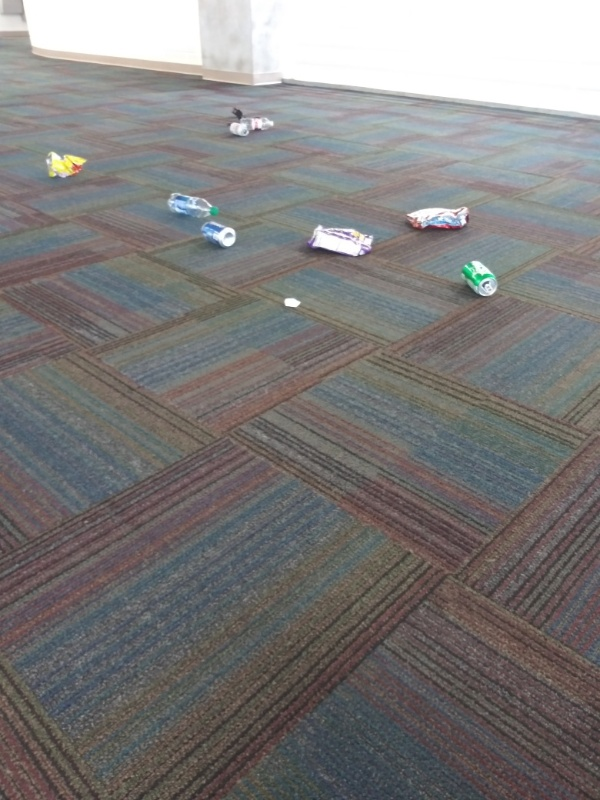bag: (300, 220, 378, 260), (399, 203, 477, 235), (38, 146, 91, 182)
bottle: (162, 188, 223, 220), (243, 116, 279, 132)
can: (457, 257, 501, 301), (196, 218, 238, 253), (224, 117, 253, 138)
